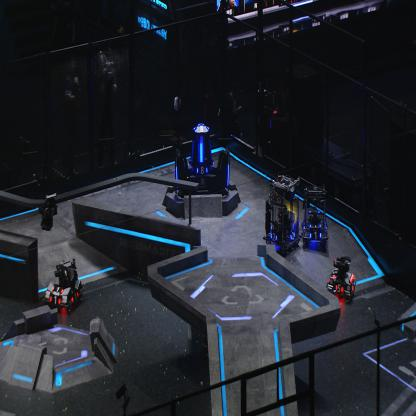car: (263, 173, 302, 254), (44, 259, 84, 312), (301, 187, 331, 253), (326, 256, 356, 304)
